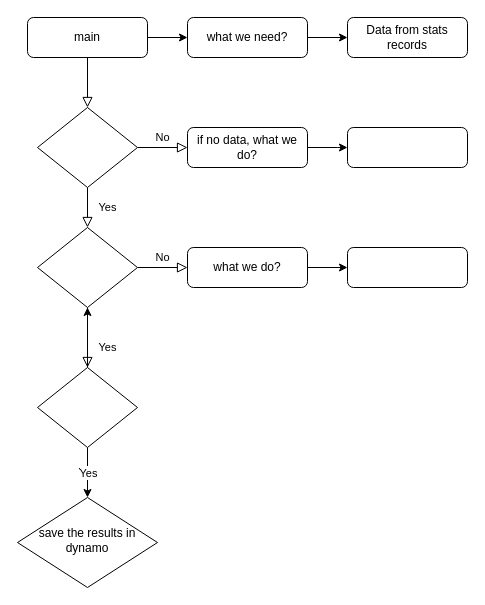
This 485x605 diagram has some shape labels left out. The shapes that lost their labels are listed below. From the top down, each one's centre as x and y in pixels, then its label:
(87,147): query for user CID
(87,267): process data
(87,407): calculate the metric needed
